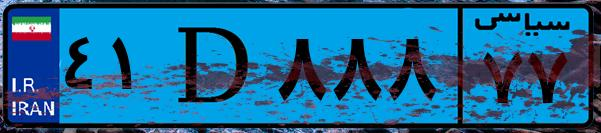1: (110, 28, 158, 98)
4: (57, 26, 110, 100)
7: (475, 38, 525, 113), (525, 38, 570, 115)
8: (270, 28, 330, 110), (385, 28, 445, 110), (330, 28, 385, 110)
D: (158, 12, 270, 120)
